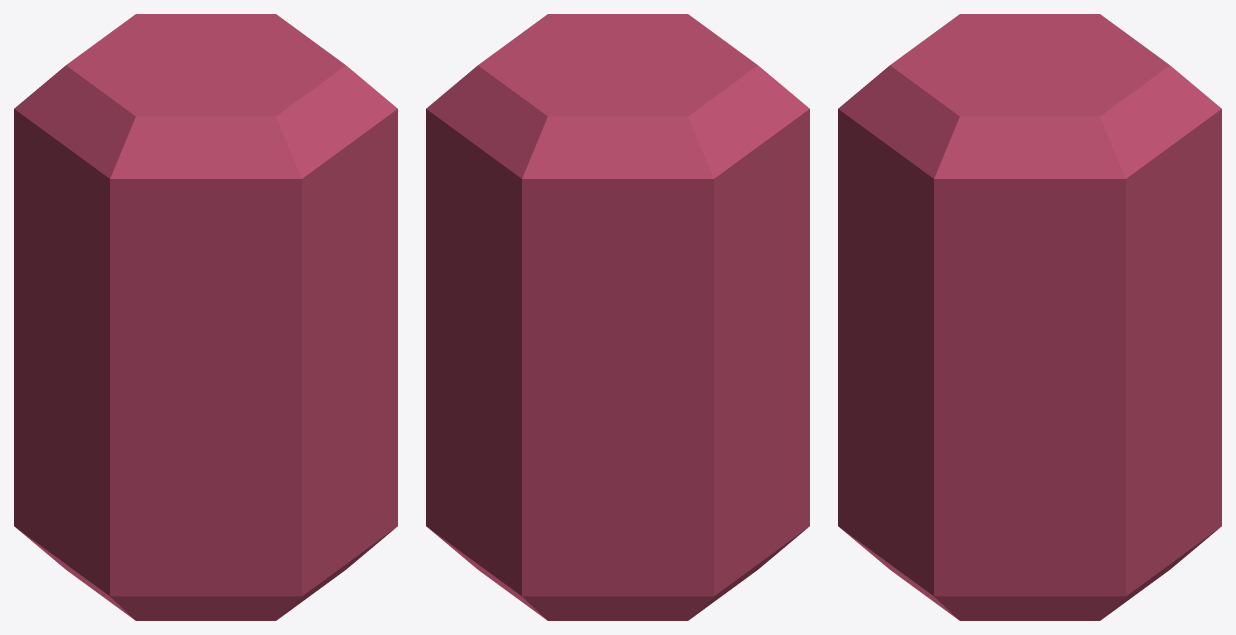
3 renders of one model, left to right at view 1: azimuth 30°, elevation 25°; view 2: azimuth 150°, elevation 25°; view 3: azimuth 270°, elevation 25°, orthographic.
Visible parts, largest first — view 1: object_065; view 2: object_065; view 3: object_065.
Boxes of the visible parts, bbox=[...] form: object_065: bbox=[14, 14, 397, 620]; object_065: bbox=[426, 14, 809, 620]; object_065: bbox=[838, 14, 1221, 620].
Size of the model in its own units: 3.46 by 5.8 by 4.
